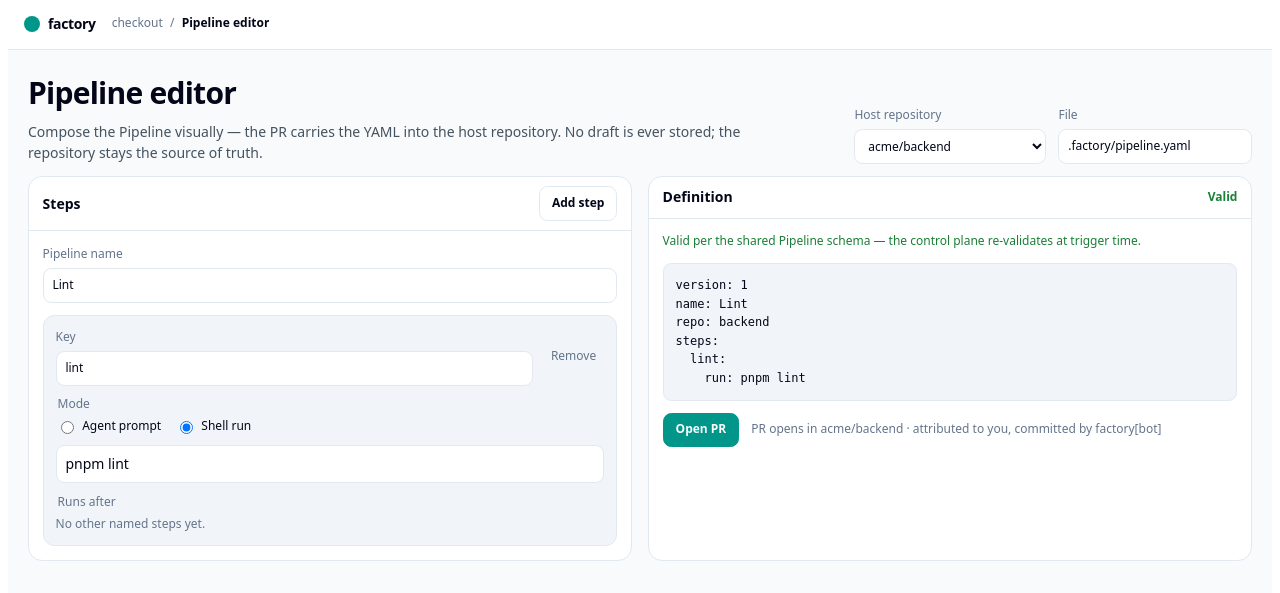
Scenario: PipelineEditor › opens the PR with the serialized YAML, the host repo, and a client-generated edit id, then shows the PR link
Expected: the dropdown labelled "Host repository" is shown, [854,130,1046,164]
Click the button "Open PR".
click(701, 430)  # box [663,412,739,447]
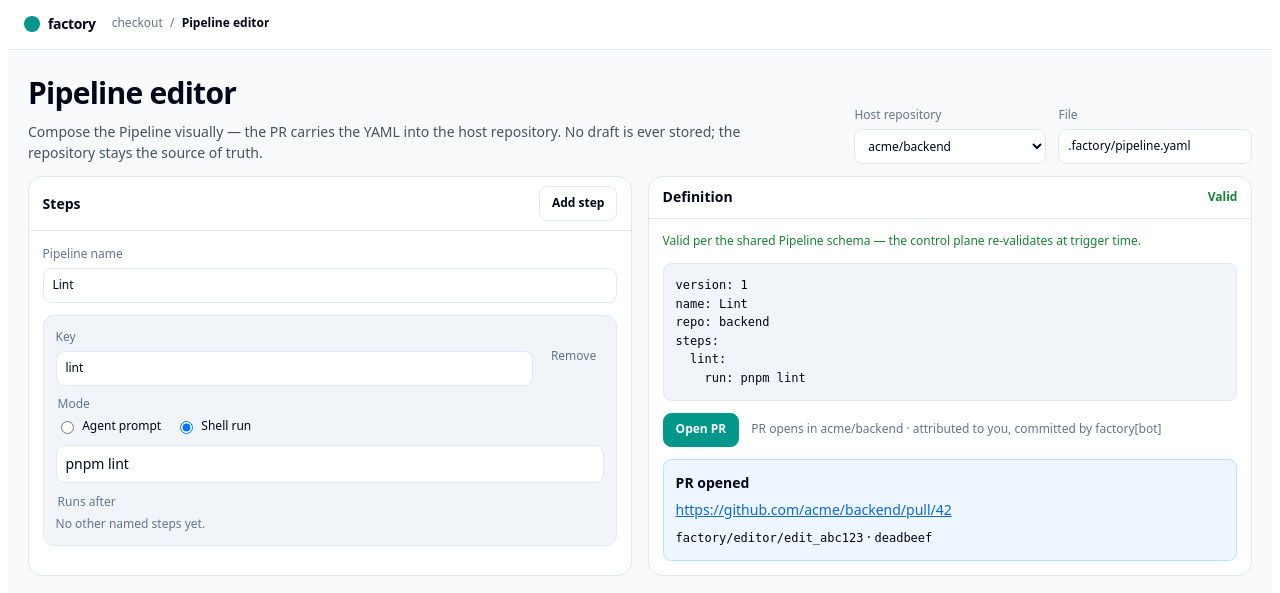
Now the element with test id "editor-pr-result" shows "https://github.com/acme/backend/pull/42", box [676,499,1224,521]
